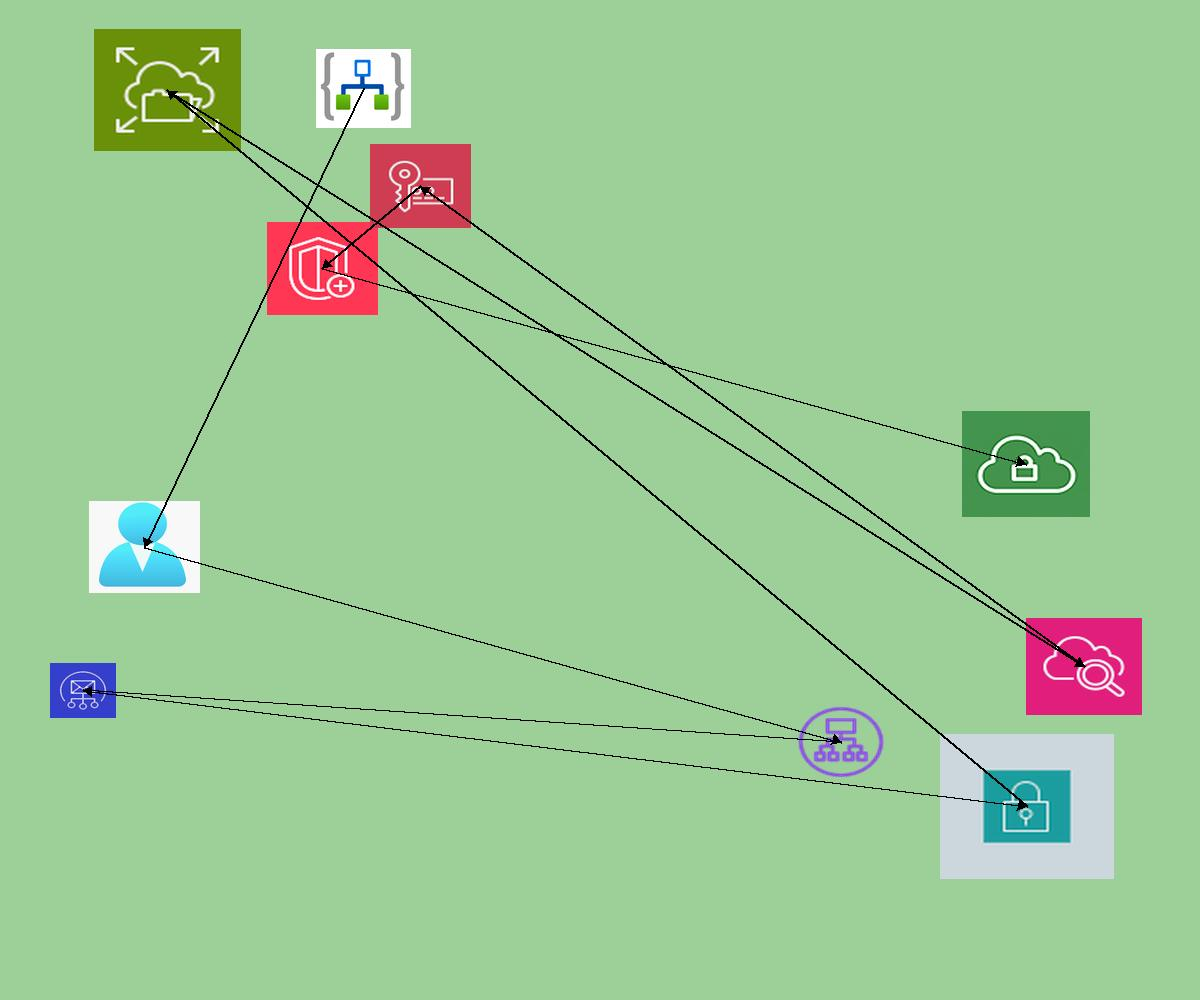AWS-CloudWatch: (1026, 618, 1142, 715)
AWS-EFS: (94, 29, 241, 151)
AWS-Key-Management-Service: (370, 144, 471, 228)
AWS-Private-subnet: (940, 734, 1114, 879)
AWS-Private_vpc: (962, 411, 1090, 517)
AWS-Res_Elastic-Load-Balancing_Application-Load-Balancer: (795, 704, 887, 780)
AWS-Shield: (267, 222, 378, 315)
AWS-Simple-Email-Service: (50, 663, 116, 718)
Azure_integration-204-Logic-Apps: (316, 49, 411, 128)
Azure_users: (89, 501, 200, 593)
